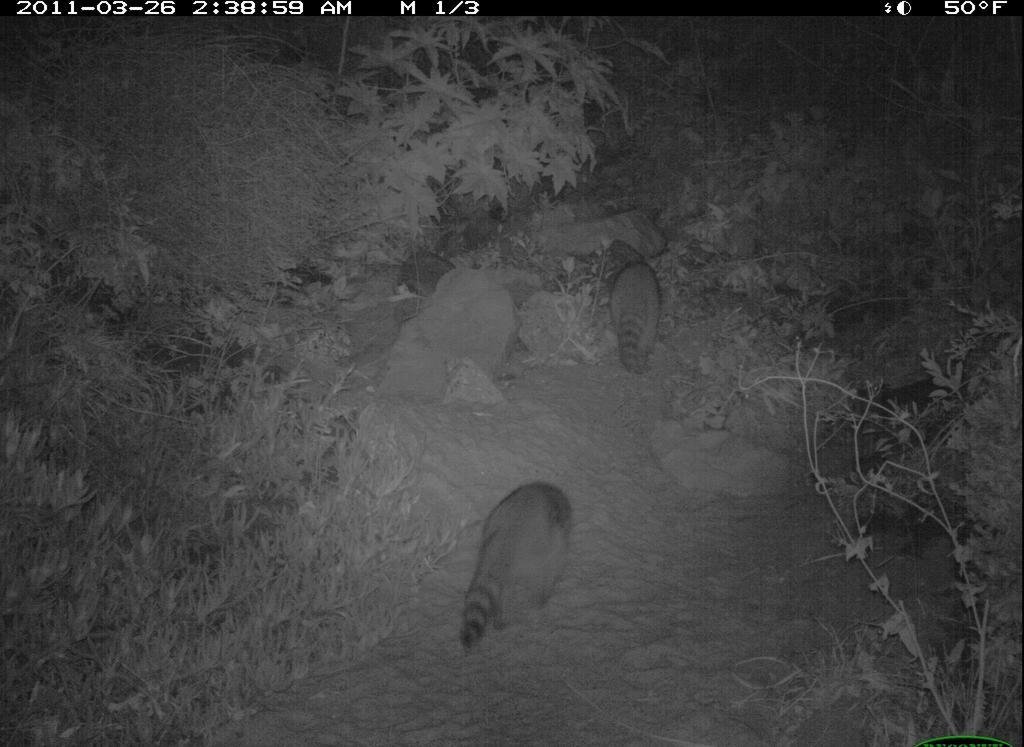raccoon: (447, 466, 584, 658), (598, 244, 669, 381)
